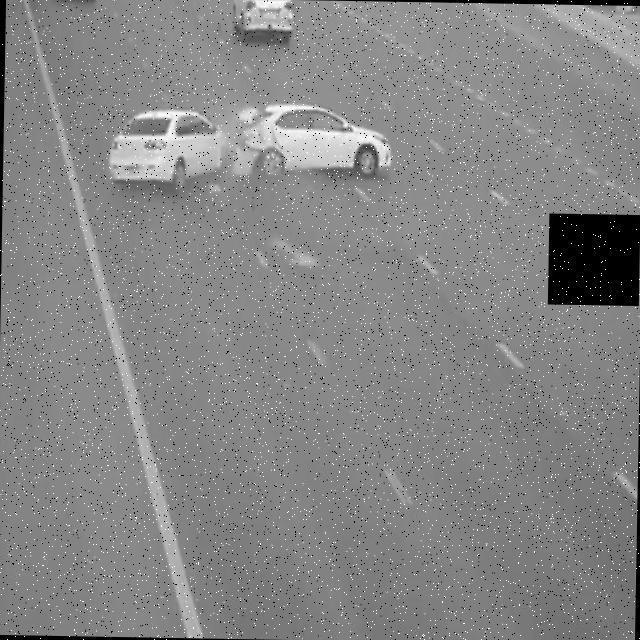accident: (104, 91, 396, 196)
